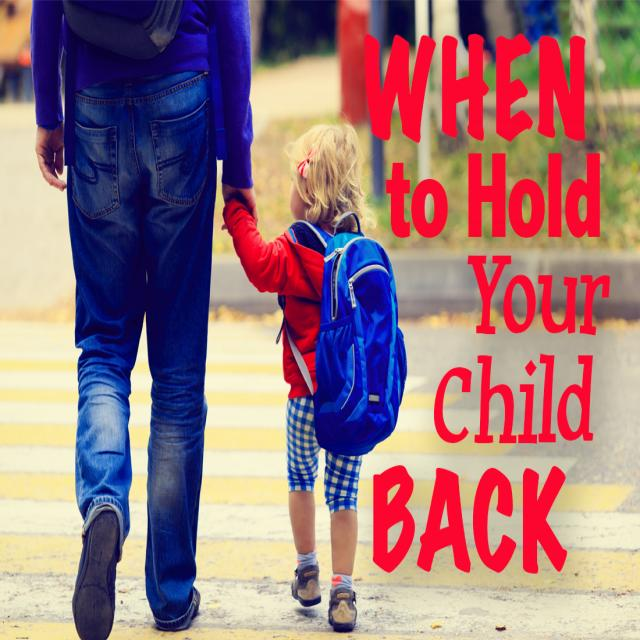adult: (30, 0, 258, 640)
child: (225, 122, 370, 631)
